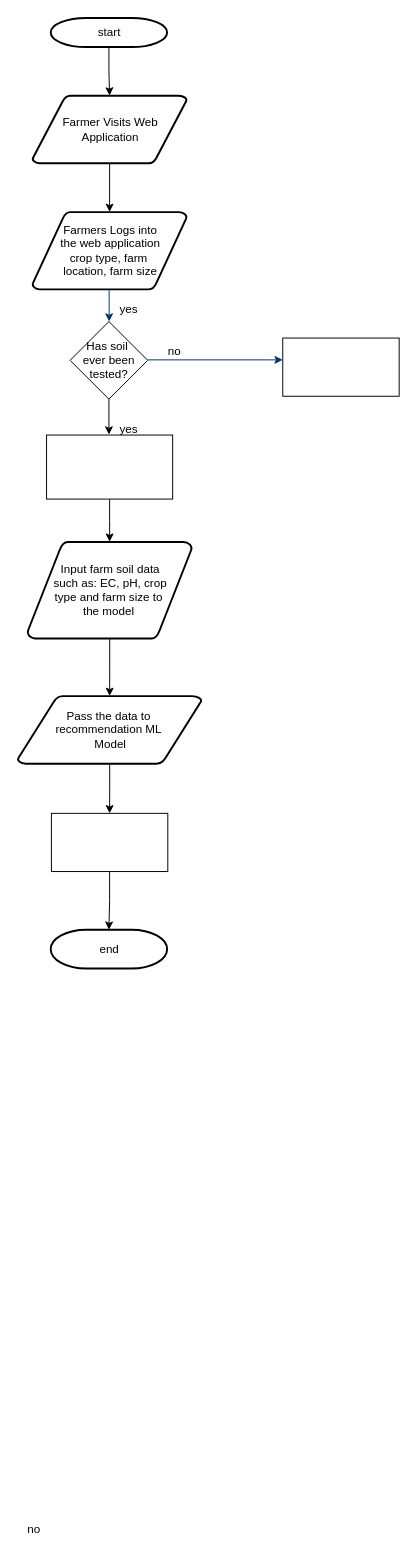
Some shapes in this 416 by 1557 pixel diagram are drawn without their labels. The shapes that lost their labels are listed below. From the top down, each one's centre as x and y in pixels, then its label:
At pixel 340 366: "Connect to Extension officers to test farm soil".
At pixel 109 466: "Upload soil test report".
At pixel 109 842: "Display the organic fertilizer recommendation".
